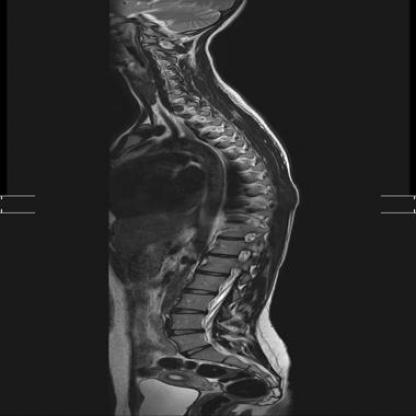Disc Bulgerotation: (227, 175, 252, 184), (225, 196, 250, 205), (224, 217, 249, 226), (164, 72, 179, 83)
